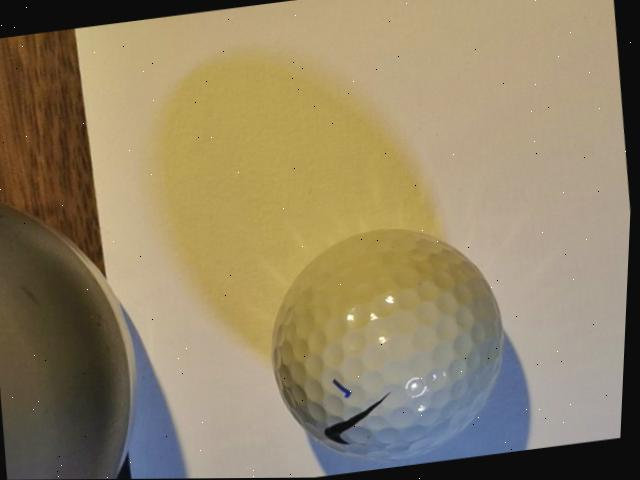Ball: (257, 214, 526, 476)
Nike: (323, 391, 401, 448)
